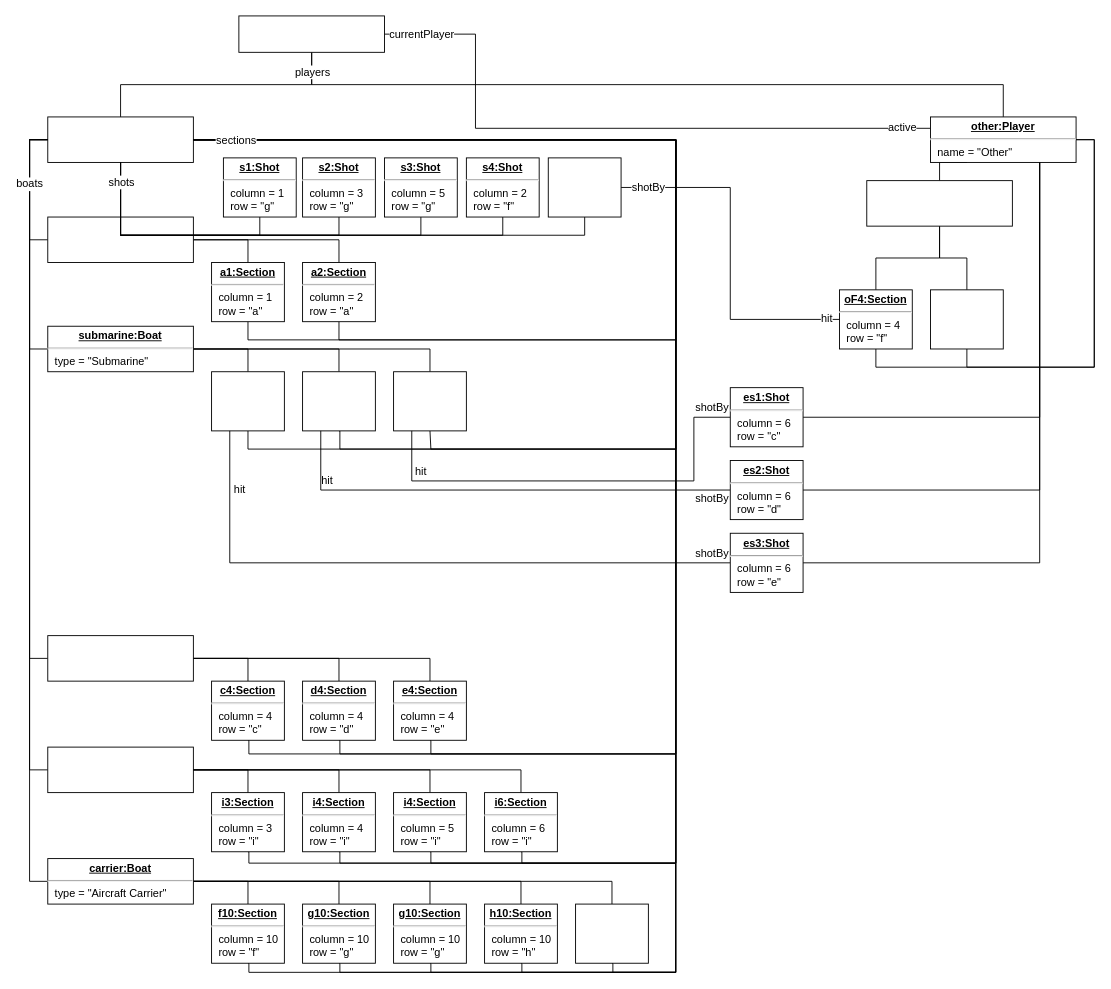
Some shapes in this 1111 by 989 pixel diagram are drawn without their labels. Each missing label, with the centre of its shape:
battleship:Boat type = "Battleship": the point at 120,769
boat:Boat type = "Patrol Boat": the point at 939,203
c6:Section column = 6 row = "c": the point at 247,401
d6:Section column = 6 row = "d": the point at 338,401
destroyer:Boat type = "Destroyer": the point at 120,658
e6:Section column = 6 row = "e": the point at 429,401
game:Game: the point at 311,33
i10:Section column = 10 row = "i": the point at 611,933
oF5:Section column = 5 row = "f": the point at 966,319
patrolBoat:Boat type = "Patrol Boat": the point at 120,239
ruben:Player name = "Ruben": the point at 120,139
s5:Shot column = 4 row = "f": the point at 584,187
